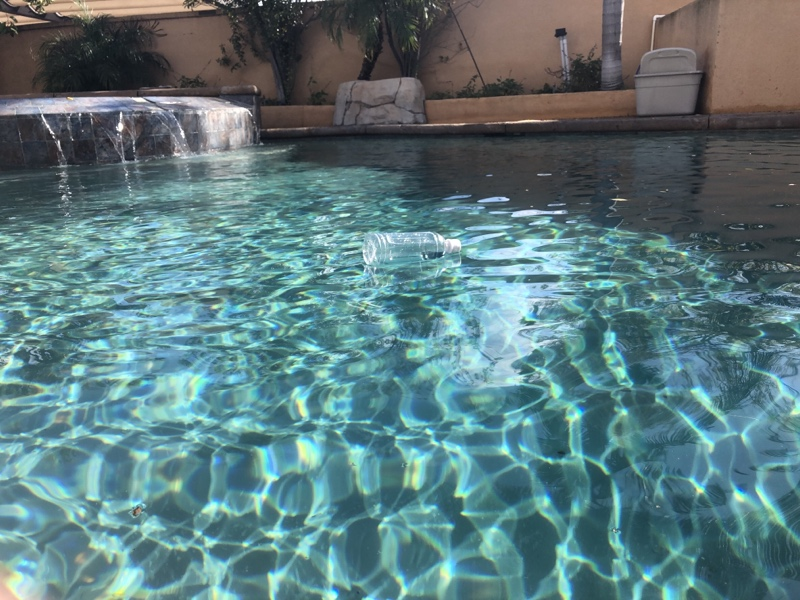Plastic Bottle: (358, 225, 464, 270)
